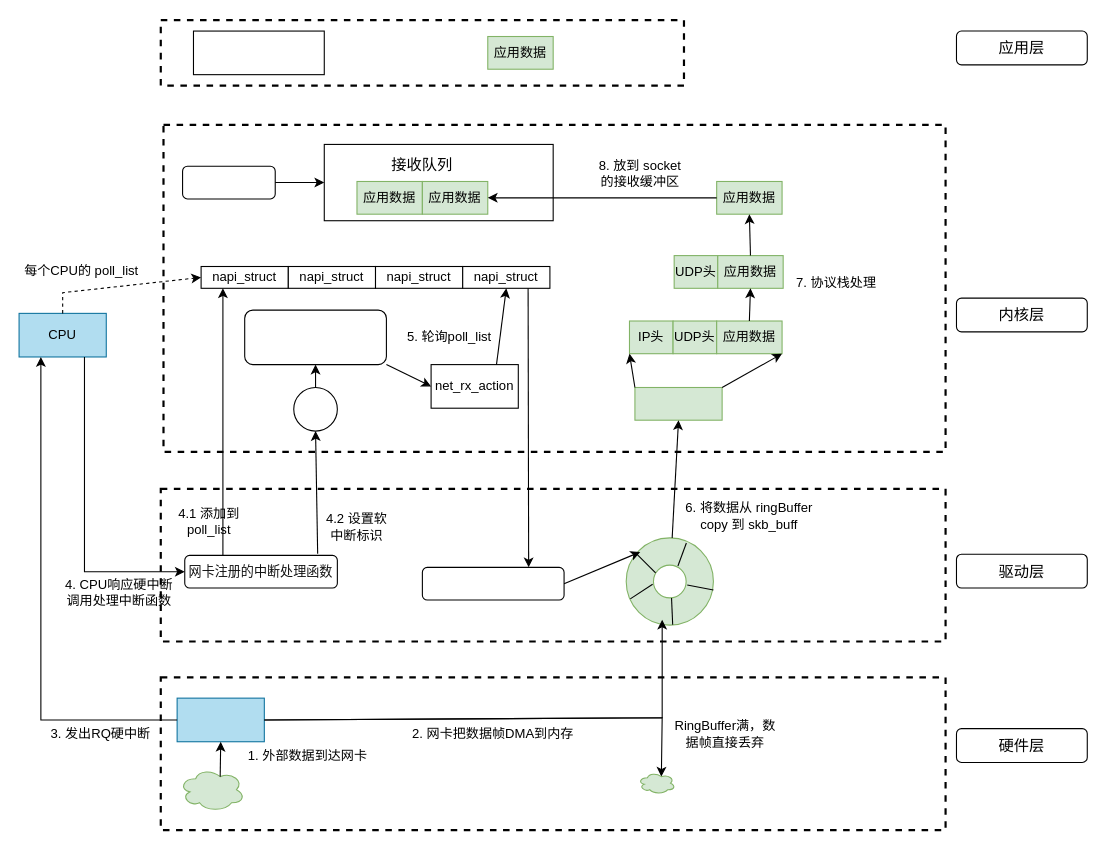
This 1106x849 diagram has some shape labels left out. The centre of each missing label's shape, as x and y in pixels:
"ksoftirqd 内核进程，处理软中断" belongs at pixel 315 337.
"on / off" belongs at pixel 315 408.
"skb_buff" belongs at pixel 678 403.
"socket" belongs at pixel 228 182.
"应用程序" belongs at pixel 258 52.
"网卡" belongs at pixel 220 719.
"驱动注册的poll函数" belongs at pixel 492 583.
